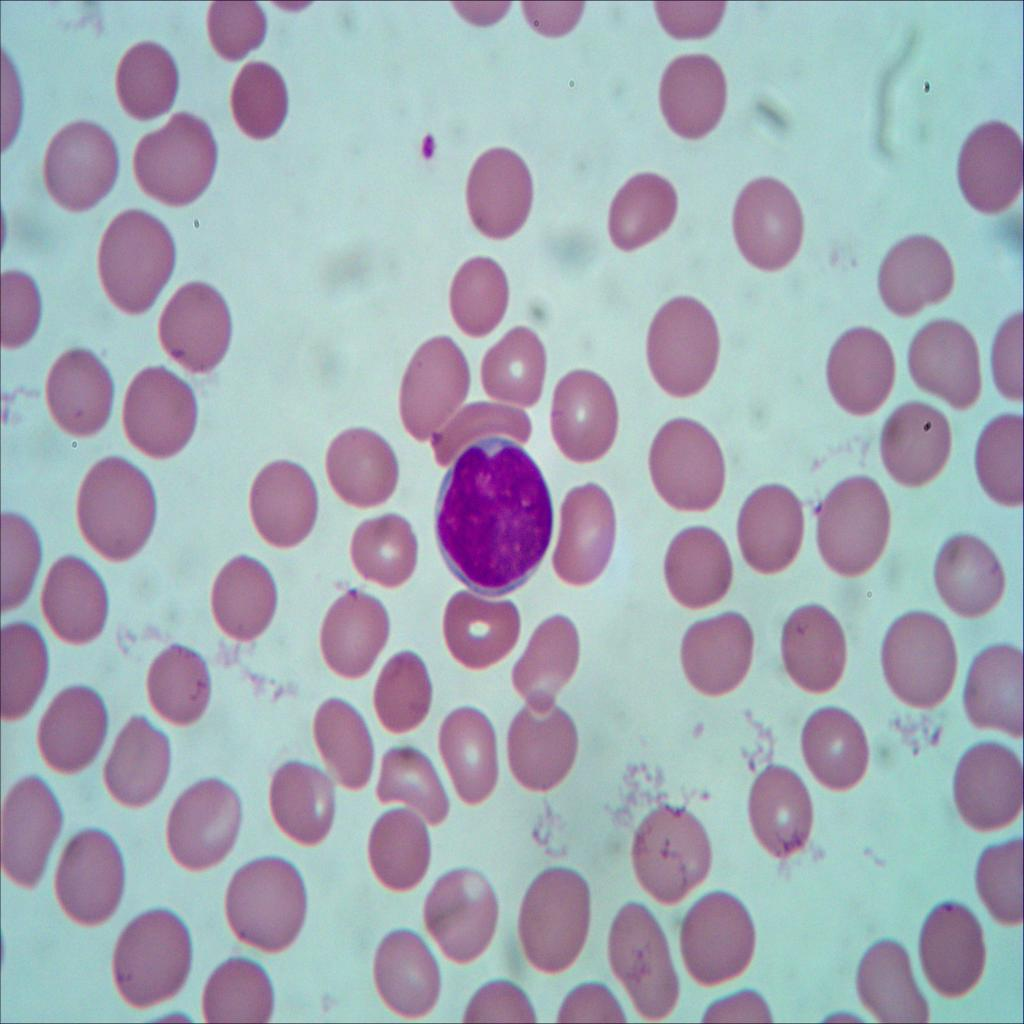Eritrosit: (594, 894, 686, 1024), (622, 783, 716, 907), (123, 104, 220, 216), (214, 856, 311, 964), (669, 606, 768, 710), (104, 902, 195, 1015), (674, 880, 767, 988), (91, 206, 179, 320), (418, 855, 503, 970), (640, 411, 728, 520), (914, 891, 998, 1005), (645, 43, 736, 146), (70, 456, 160, 560), (726, 170, 813, 276), (110, 362, 207, 456), (164, 770, 250, 876), (816, 312, 902, 418), (0, 774, 71, 902), (551, 480, 630, 594), (937, 731, 1024, 834), (202, 546, 286, 652), (646, 287, 722, 404), (36, 113, 124, 214), (517, 855, 594, 970), (655, 506, 740, 609), (36, 341, 121, 443), (811, 476, 895, 579), (39, 552, 122, 656), (459, 138, 538, 247), (600, 168, 685, 268), (394, 333, 470, 444), (53, 825, 128, 937), (157, 273, 235, 377), (774, 588, 851, 693), (434, 249, 520, 343), (504, 690, 580, 796), (952, 116, 1024, 225), (736, 474, 812, 577), (909, 312, 987, 412), (308, 685, 378, 796), (850, 932, 933, 1024), (362, 928, 444, 1021), (542, 365, 622, 460), (884, 616, 960, 716), (324, 420, 402, 516), (476, 320, 552, 418), (250, 450, 324, 550), (444, 588, 532, 671), (931, 531, 1018, 614), (749, 749, 809, 869), (37, 679, 110, 777), (882, 397, 956, 493), (97, 714, 167, 815), (873, 228, 957, 311), (960, 634, 1024, 742), (969, 403, 1024, 528), (113, 35, 186, 129), (144, 644, 215, 740), (440, 701, 501, 812), (797, 708, 876, 792), (509, 620, 581, 712), (262, 758, 338, 845), (224, 62, 294, 154), (317, 584, 390, 672), (380, 744, 454, 830), (360, 642, 434, 726), (970, 822, 1024, 936), (348, 506, 421, 590), (0, 614, 51, 730), (362, 807, 434, 888), (200, 951, 273, 1024), (203, 0, 276, 67)
Limfoblast: (424, 430, 556, 596)
Platelet: (417, 114, 442, 170)
